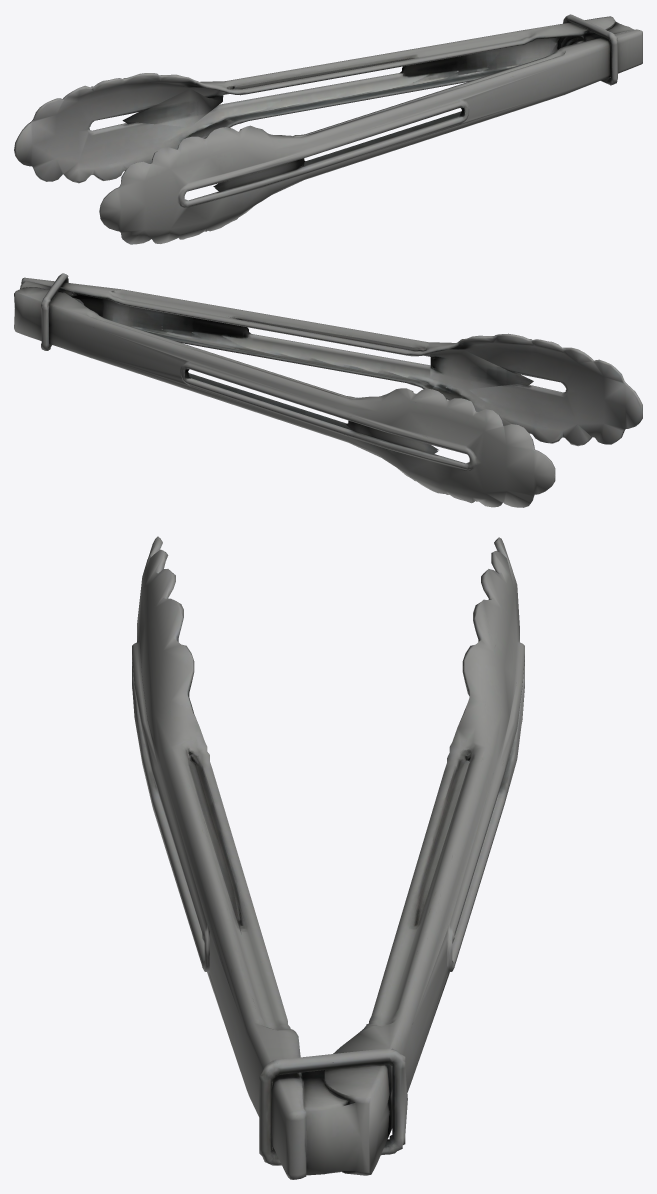
File: optimized_glb.glb
3 views of the same model, one above another, from view 1: azimuth 30°, elevation 25°; view 2: azimuth 150°, elevation 25°; view 3: azimuth 270°, elevation 25° (orthographic). The views are drawn at different scales.
Parts seen in each view (by area): view 1: Serving Tongs; view 2: Serving Tongs; view 3: Serving Tongs.
Boxes of the visible parts, x1,y1,x2,y2 form: Serving Tongs: (14,14,642,244); Serving Tongs: (14,273,642,507); Serving Tongs: (132,536,524,1179).
Size of the model in its own units: 0.998 by 0.166 by 0.2949.
1 material, 1 textured.
